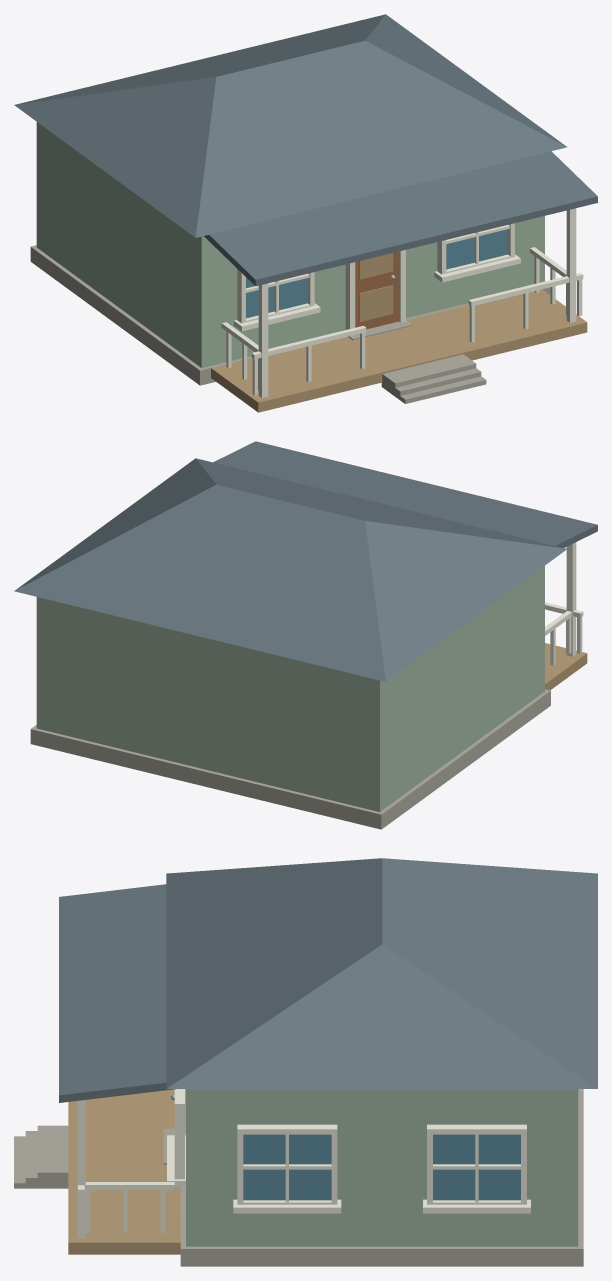
Rendered from house_bungalow.glb.
The picture shows the model from 3 angles, top to bottom: view 1: azimuth 30°, elevation 25°; view 2: azimuth 150°, elevation 25°; view 3: azimuth 270°, elevation 25°; orthographic projection. The views are drawn at different scales.
Parts seen in each view (by area): view 1: Bungalow_Hipped_Roof, Bungalow_Walls, Bungalow_Porch_Roof, Bungalow_Porch_Deck, Bungalow_Foundation, Bungalow_Porch_Step_0, Bungalow_Front_Window_2.1_Glass, Bungalow_Door_Door, Bungalow_Front_Window_-2.1_Glass, Bungalow_Porch_Post_0, Bungalow_Porch_Post_1, Bungalow_Door_Inset_Panel_0 (+9 smaller); view 2: Bungalow_Walls, Bungalow_Hipped_Roof, Bungalow_Porch_Roof, Bungalow_Foundation, Bungalow_Porch_Deck, Bungalow_Porch_Post_0; view 3: Bungalow_Hipped_Roof, Bungalow_Walls, Bungalow_Porch_Roof, Bungalow_Porch_Deck, Bungalow_Foundation, Bungalow_Side_Window_-1.45_Glass, Bungalow_Side_Window_1.45_Glass, Bungalow_Porch_Step_0, Bungalow_Side_Window_-1.45_Sill, Bungalow_Side_Window_1.45_Sill, Bungalow_Side_Window_-1.45_Horizontal_Frame_1, Bungalow_Side_Window_1.45_Horizontal_Frame_1 (+7 smaller).
Part boxes in pixels (x1=…): Bungalow_Hipped_Roof: x1=14, y1=14, x2=566, y2=237; Bungalow_Walls: x1=36, y1=122, x2=544, y2=367; Bungalow_Porch_Roof: x1=204, y1=151, x2=597, y2=286; Bungalow_Porch_Deck: x1=211, y1=289, x2=587, y2=412; Bungalow_Foundation: x1=30, y1=245, x2=550, y2=385; Bungalow_Porch_Step_0: x1=381, y1=354, x2=476, y2=390; Bungalow_Front_Window_2.1_Glass: x1=446, y1=229, x2=507, y2=269; Bungalow_Door_Door: x1=355, y1=251, x2=398, y2=329; Bungalow_Front_Window_-2.1_Glass: x1=246, y1=277, x2=307, y2=318; Bungalow_Porch_Post_0: x1=258, y1=283, x2=268, y2=397; Bungalow_Porch_Post_1: x1=566, y1=208, x2=576, y2=322; Bungalow_Door_Inset_Panel_0: x1=359, y1=285, x2=393, y2=321; Bungalow_Walls: x1=36, y1=566, x2=544, y2=811; Bungalow_Hipped_Roof: x1=14, y1=458, x2=566, y2=681; Bungalow_Porch_Roof: x1=213, y1=441, x2=597, y2=547; Bungalow_Foundation: x1=30, y1=689, x2=550, y2=829; Bungalow_Porch_Deck: x1=545, y1=643, x2=587, y2=690; Bungalow_Porch_Post_0: x1=566, y1=542, x2=576, y2=656; Bungalow_Hipped_Roof: x1=166, y1=858, x2=597, y2=1088; Bungalow_Walls: x1=186, y1=1089, x2=578, y2=1246; Bungalow_Porch_Roof: x1=59, y1=884, x2=175, y2=1102; Bungalow_Porch_Deck: x1=68, y1=1089, x2=185, y2=1254; Bungalow_Foundation: x1=180, y1=1089, x2=583, y2=1266; Bungalow_Side_Window_-1.45_Glass: x1=243, y1=1134, x2=331, y2=1200; Bungalow_Side_Window_1.45_Glass: x1=433, y1=1134, x2=520, y2=1200; Bungalow_Porch_Step_0: x1=37, y1=1125, x2=68, y2=1188; Bungalow_Side_Window_-1.45_Sill: x1=233, y1=1199, x2=341, y2=1213; Bungalow_Side_Window_1.45_Sill: x1=423, y1=1199, x2=530, y2=1213; Bungalow_Side_Window_-1.45_Horizontal_Frame_1: x1=237, y1=1124, x2=337, y2=1134; Bungalow_Side_Window_1.45_Horizontal_Frame_1: x1=427, y1=1124, x2=526, y2=1134.
Bounding box in the file's own units: 7.8 × 4.45 × 8.93.
